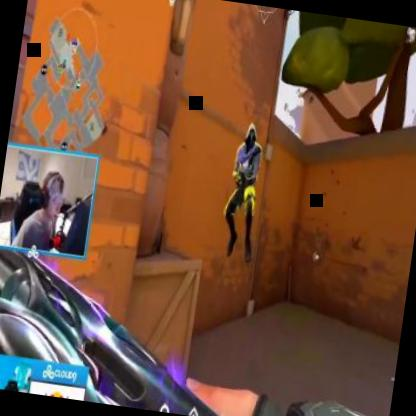enemy: (216, 119, 270, 265)
enemy_head: (243, 121, 259, 149)
